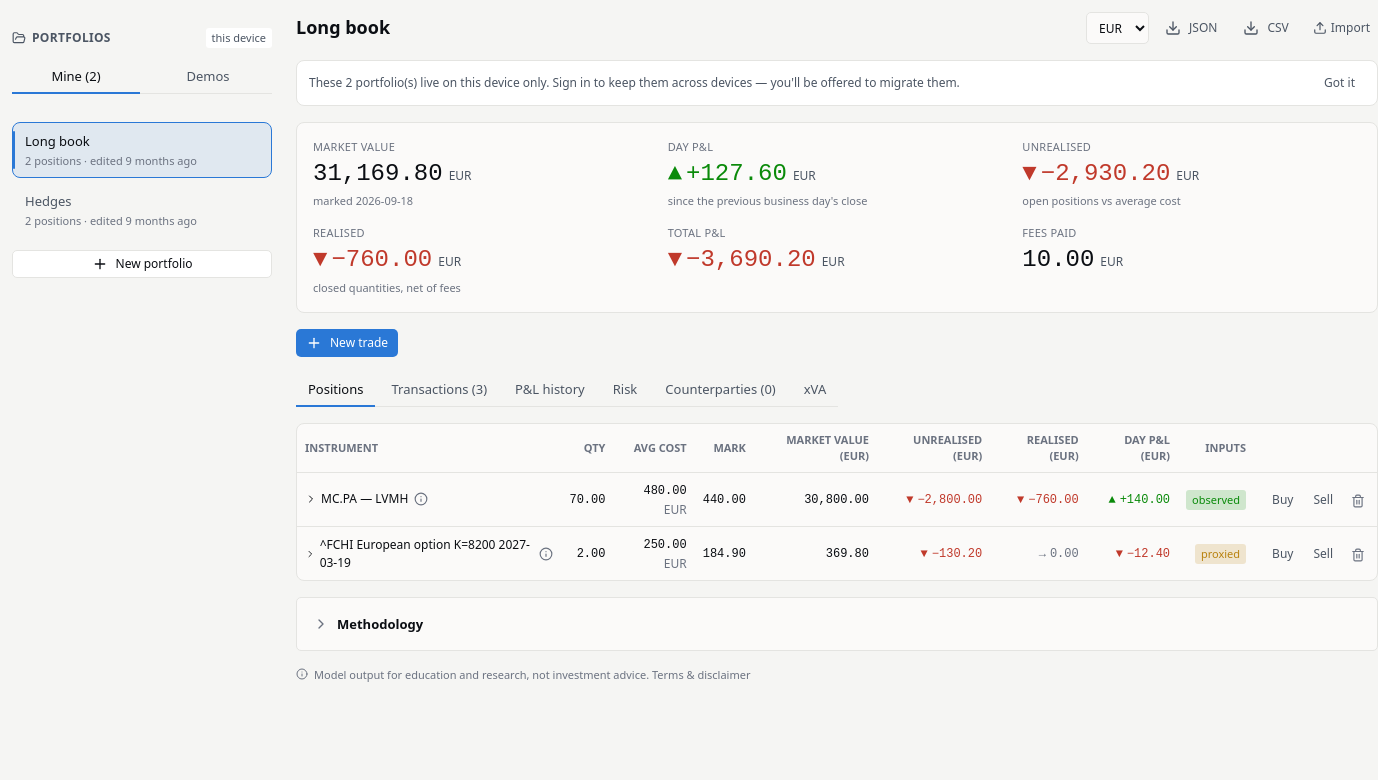
Test: portfolio book › opens a demo read-only, and copies it into one's own portfolios
This screenshot has width=1378, height=780.
Click the tab "Demos" at (208, 77), box [144,60,272,94]
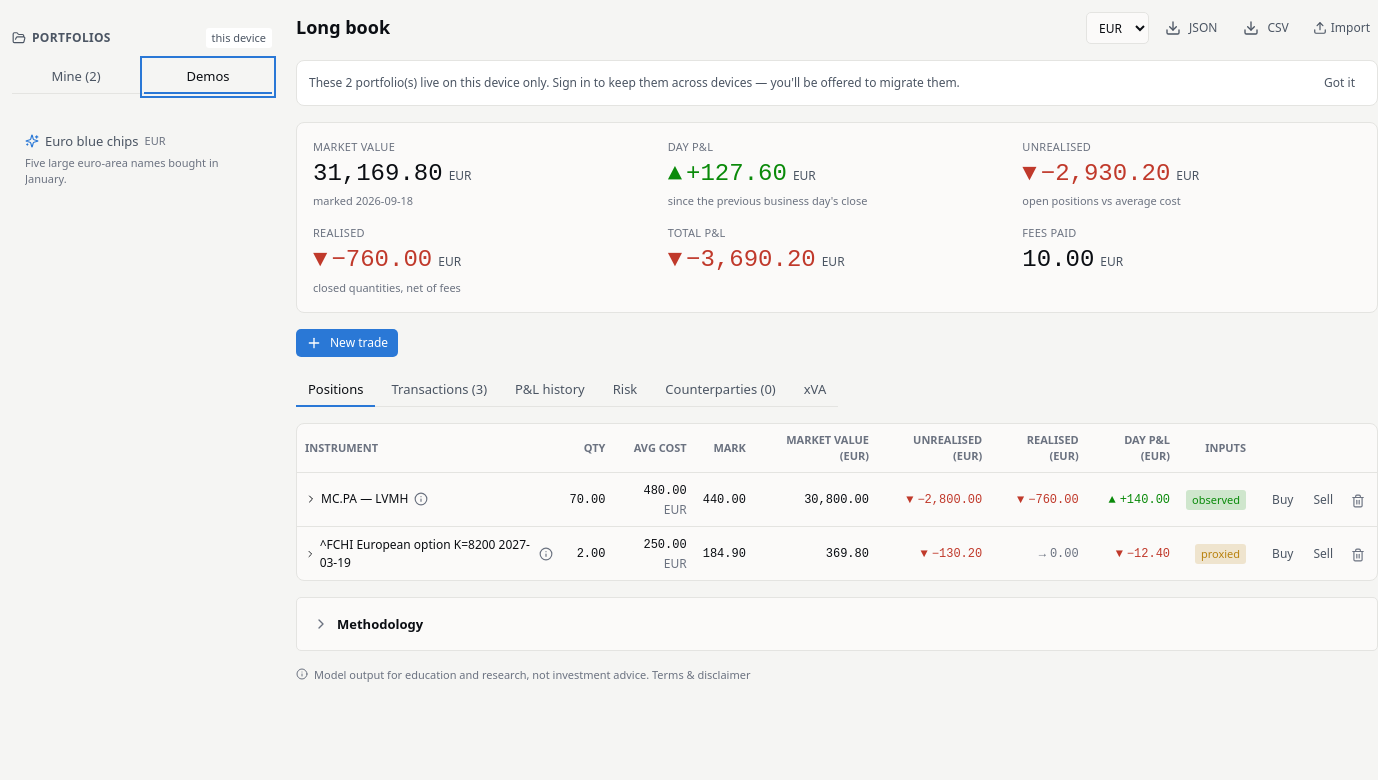
Click the button "Euro blue chips" at (142, 159), box [12,122,272,196]
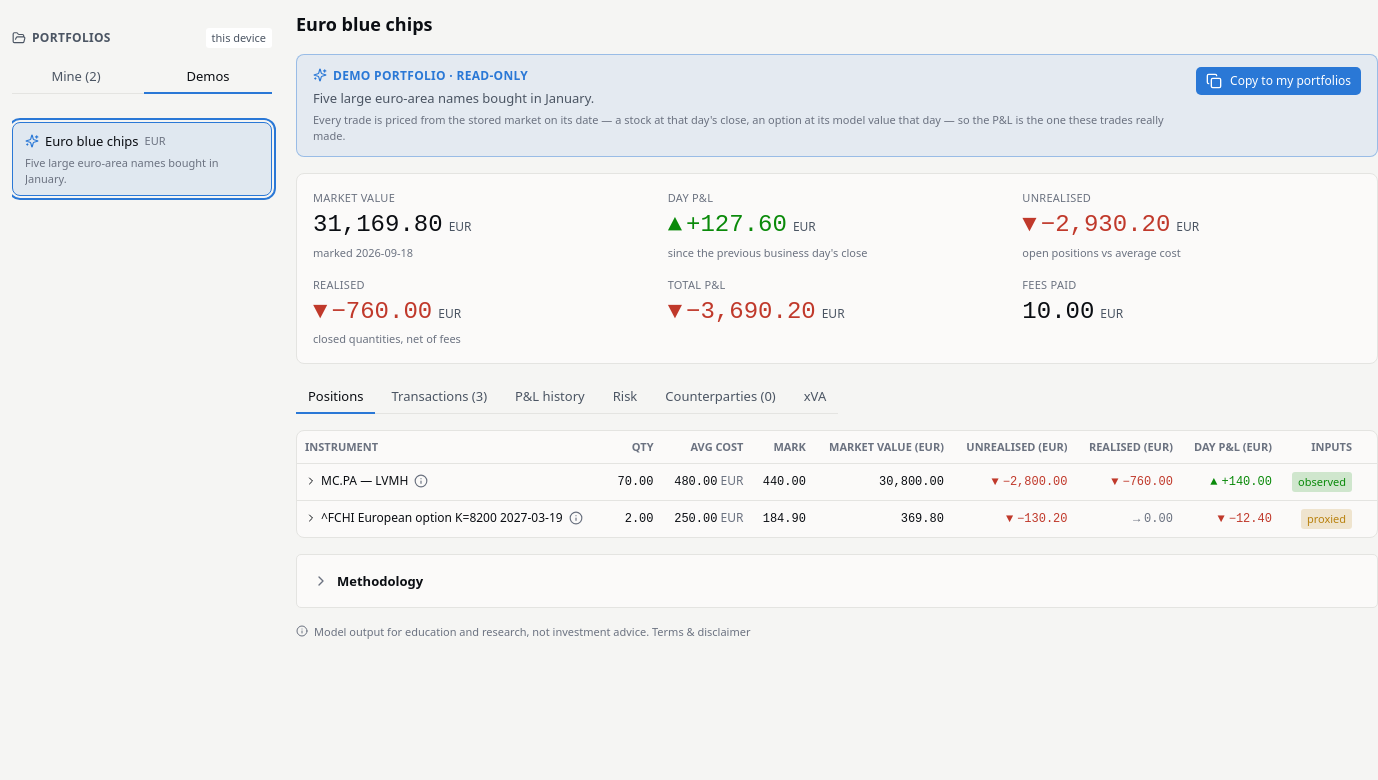
Now the text "Demo portfolio · read-only" is shown, box [313,67,528,84]
Now the button "New trade" is gone
Now the button "Sell" is gone
Click the button "Copy to my portfolios" at (1279, 81), box [1196,67,1361,95]
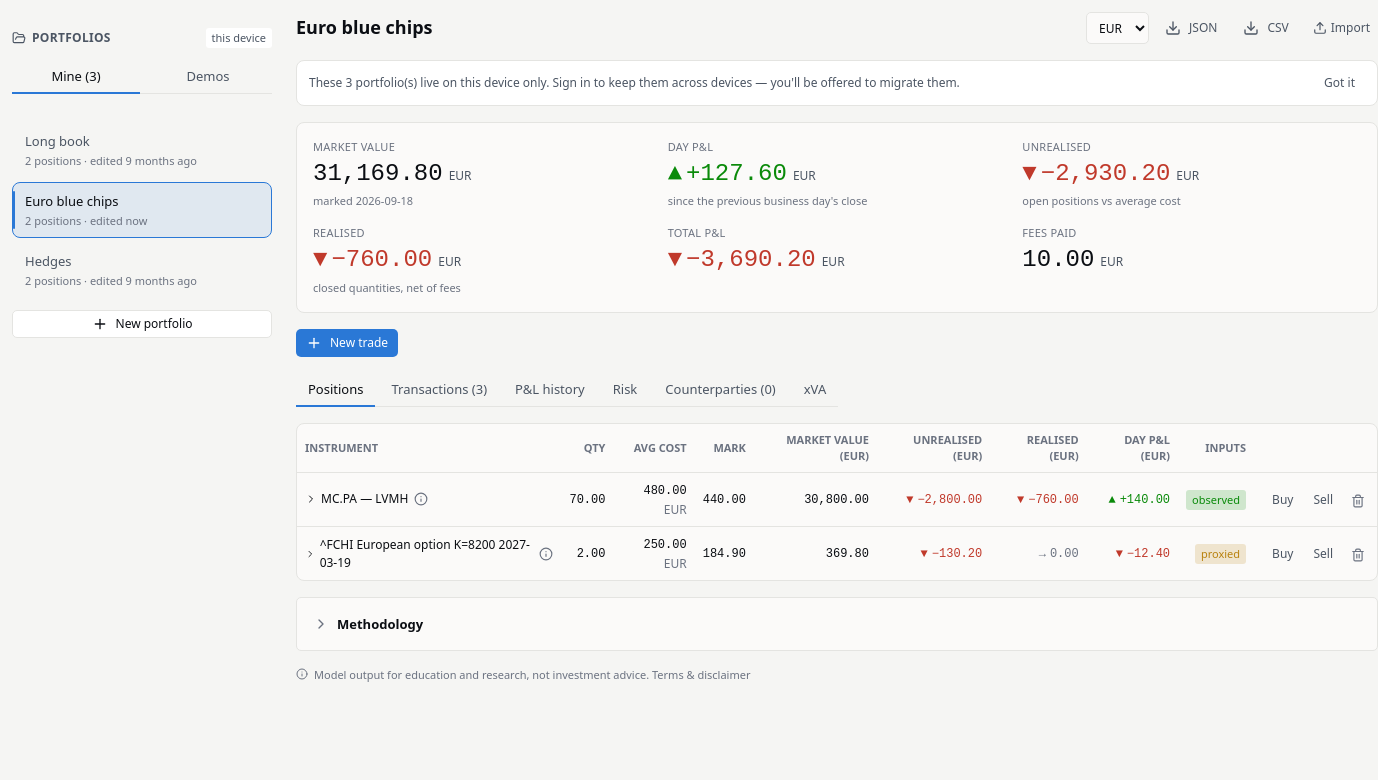
Now the button "New trade" is shown, box [296,329,398,357]
